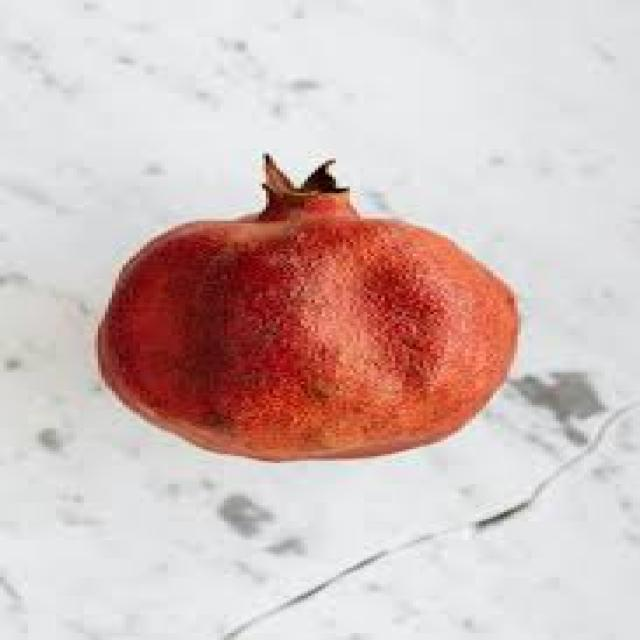overripe: (81, 147, 530, 465)
